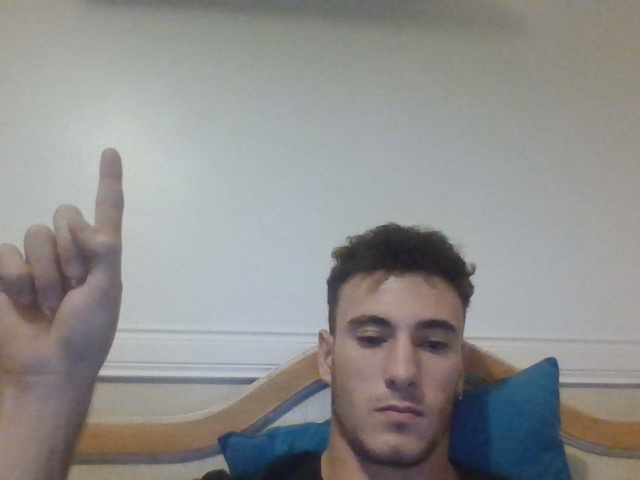Up: (2, 149, 124, 365)
